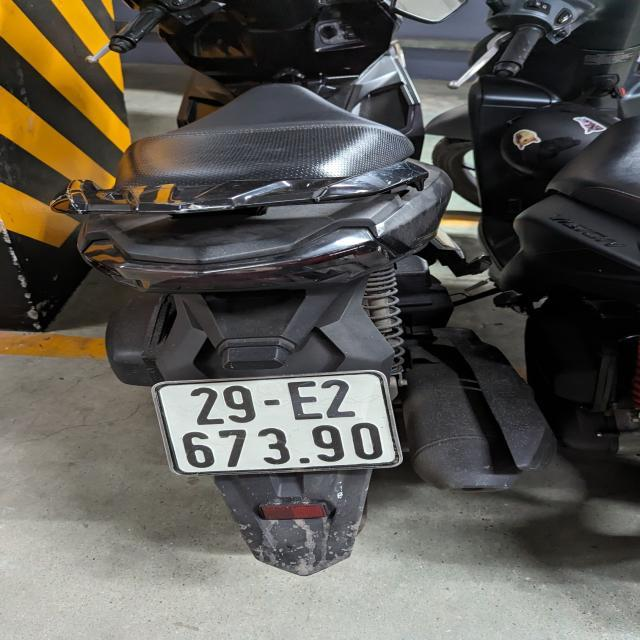license: (150, 369, 403, 476)
